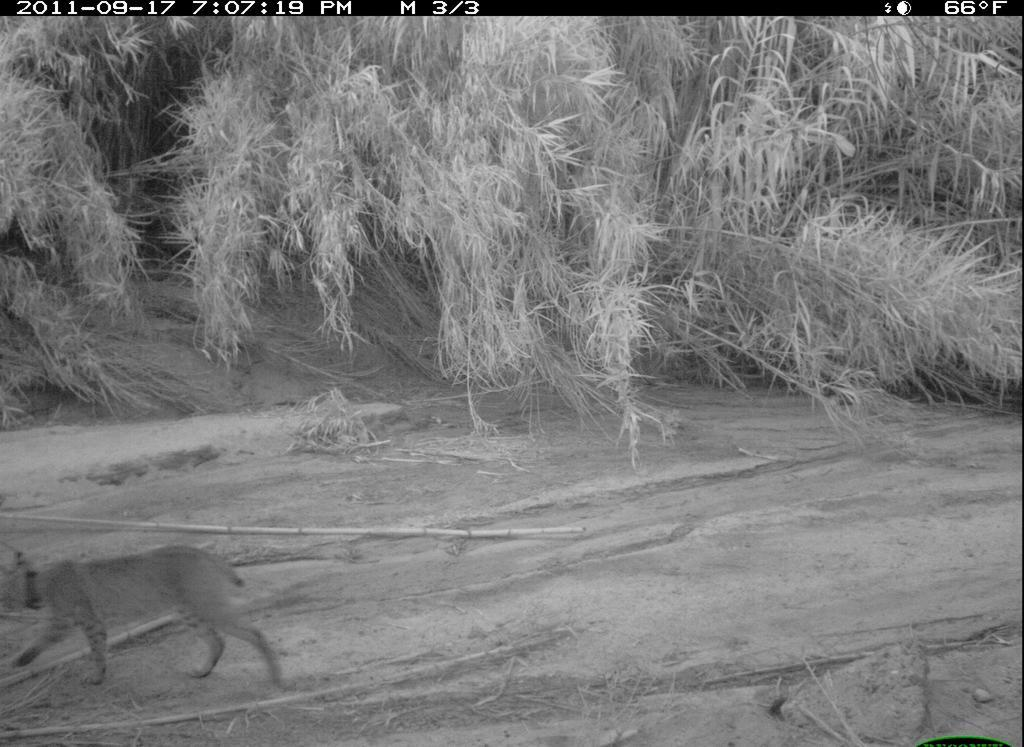bobcat: (4, 539, 300, 705)
